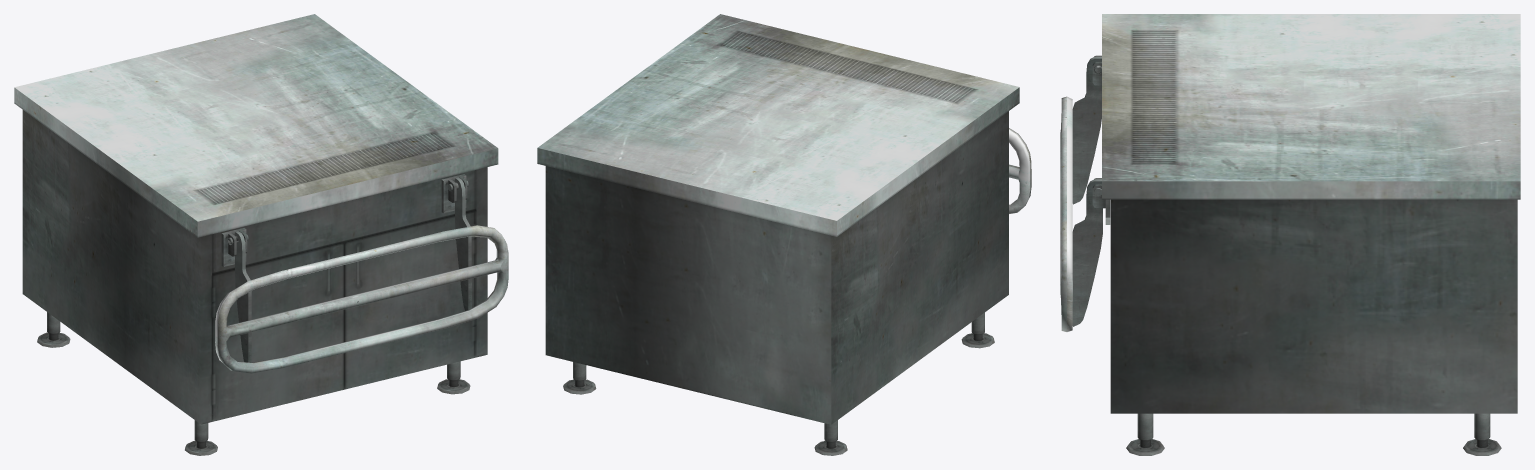
File: drinkBar2.fbx
The picture shows the model from 3 angles, left to right: view 1: azimuth 30°, elevation 25°; view 2: azimuth 150°, elevation 25°; view 3: azimuth 270°, elevation 25°; orthographic projection. The views are drawn at different scales.
Parts seen in each view (by area): view 1: pCube16, pCube18, polySurface46, polySurface49, polySurface41, polySurface53, polySurface51, polySurface45, polySurface50; view 2: pCube16, pCube18, polySurface51, polySurface52, polySurface41; view 3: pCube16, pCube18, polySurface46, polySurface49, polySurface53, polySurface52.
Boxes of the visible parts, x1=… form: pCube16: x1=14, y1=14, x2=498, y2=424; pCube18: x1=215, y1=225, x2=508, y2=373; polySurface46: x1=455, y1=177, x2=471, y2=310; polySurface49: x1=235, y1=231, x2=251, y2=362; polySurface41: x1=185, y1=420, x2=217, y2=455; polySurface53: x1=437, y1=361, x2=470, y2=394; polySurface51: x1=37, y1=312, x2=70, y2=347; polySurface45: x1=441, y1=174, x2=467, y2=213; polySurface50: x1=221, y1=228, x2=247, y2=266; pCube16: x1=537, y1=14, x2=1019, y2=424; pCube18: x1=1009, y1=128, x2=1031, y2=213; polySurface51: x1=814, y1=420, x2=847, y2=455; polySurface52: x1=563, y1=362, x2=596, y2=394; polySurface41: x1=961, y1=312, x2=994, y2=348; pCube16: x1=1102, y1=14, x2=1520, y2=413; pCube18: x1=1060, y1=96, x2=1072, y2=331; polySurface46: x1=1072, y1=179, x2=1102, y2=326; polySurface49: x1=1072, y1=57, x2=1101, y2=204; polySurface53: x1=1126, y1=413, x2=1164, y2=455; polySurface52: x1=1463, y1=413, x2=1501, y2=455.
Size of the model in its own units: 5.66 by 4.44 by 6.59.
